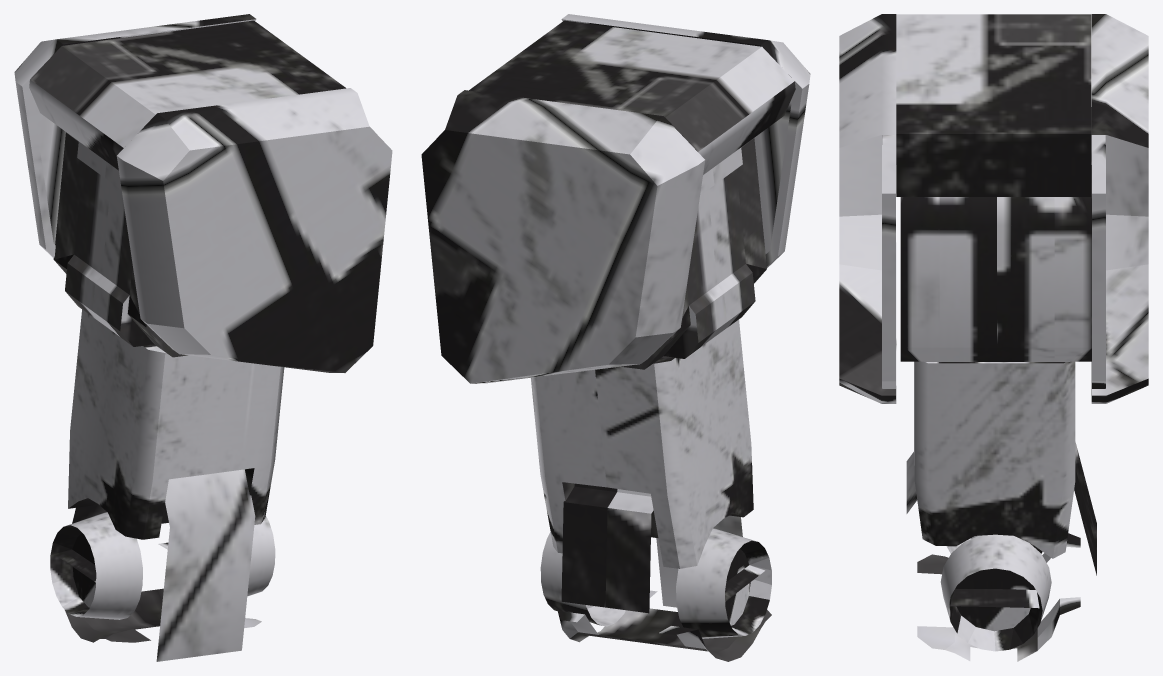
File: upperA.obj
The picture shows the model from 3 angles, left to right: view 1: azimuth 30°, elevation 25°; view 2: azimuth 150°, elevation 25°; view 3: azimuth 270°, elevation 25°; orthographic projection. The views are drawn at different scales.
Visible parts, largest first — view 1: handa:polySurface666; view 2: handa:polySurface666; view 3: handa:polySurface666.
Boxes of the visible parts, x1,y1,x2,y2 form: handa:polySurface666: [14, 14, 392, 661]; handa:polySurface666: [421, 14, 810, 661]; handa:polySurface666: [839, 14, 1148, 661].
Size of the model in its own units: 2.7 by 5.73 by 2.73.
1 material, 1 textured.
